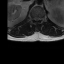CCS_normal: (35, 15, 37, 23)
LFS_normal: (40, 16, 41, 21)
LLS_normal: (37, 15, 40, 22)
RFS_normal: (31, 15, 33, 22)
RLS_normal: (33, 15, 35, 22)
